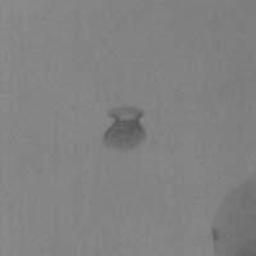Oil spot: (211, 174, 256, 256), (100, 104, 148, 154)
